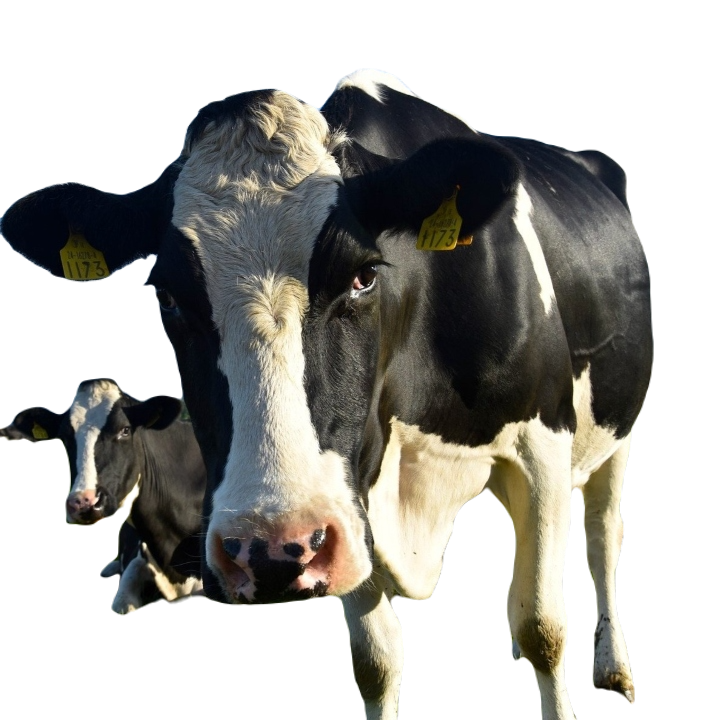Cow: (0, 66, 657, 719)
